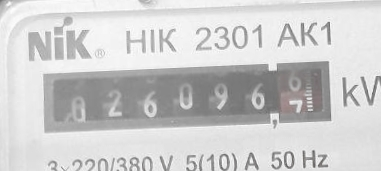0: (175, 78, 196, 114), (67, 91, 88, 124)
2: (103, 86, 125, 121)
6: (140, 86, 160, 122), (248, 78, 267, 112), (284, 67, 304, 94)
7: (286, 96, 305, 117)
9: (211, 80, 231, 113)
screen: (32, 51, 340, 146)
